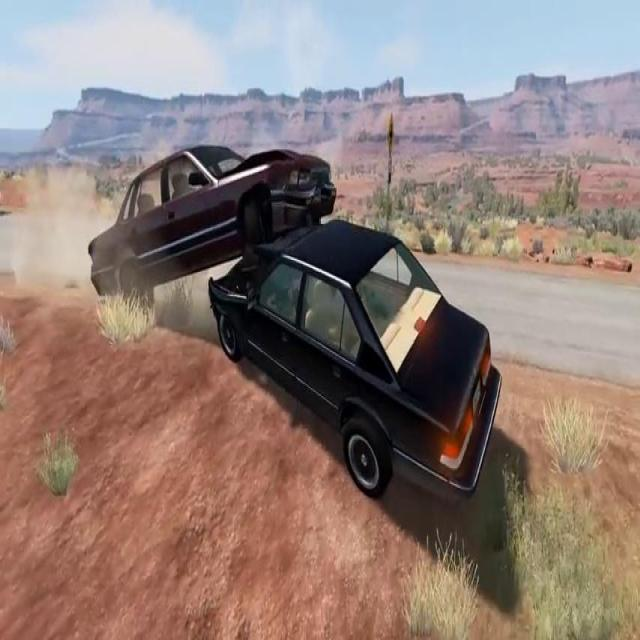severe: (86, 126, 505, 519)
